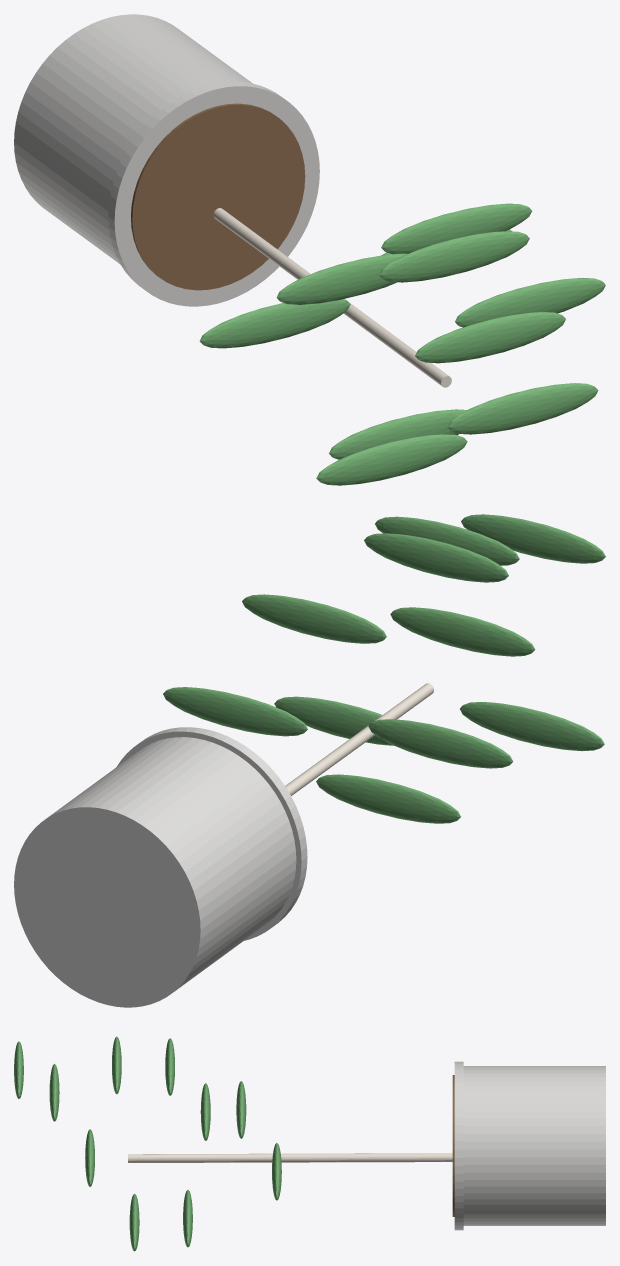
Rendered from 321 BITKI - PLANT.glb.
3 renders of one model, top to bottom at view 1: azimuth 30°, elevation 25°; view 2: azimuth 150°, elevation 25°; view 3: azimuth 270°, elevation 25°, orthographic. The views are drawn at different scales.
Visible parts, largest first — view 1: pot, soil, pot_rim, leaf_9, leaf_5, leaf_4, leaf_7, leaf_1, leaf_2, leaf_6, leaf_3, stem (+1 smaller); view 2: pot, leaf_3, leaf_9, leaf_8, leaf_2, leaf_1, leaf_0, leaf_5, leaf_7, pot_rim, leaf_4, leaf_6 (+1 smaller); view 3: pot, stem, pot_rim, leaf_6, leaf_1, leaf_4, leaf_2, leaf_9, leaf_7, leaf_5, leaf_8, leaf_0 (+2 smaller).
Boxes of the visible parts, box(x1,y1,x2,y2) form: pot: box(14, 14, 252, 263); soil: box(131, 103, 305, 290); pot_rim: box(108, 81, 319, 306); leaf_9: box(379, 231, 529, 282); leaf_5: box(316, 434, 467, 485); leaf_4: box(447, 383, 598, 434); leaf_7: box(415, 312, 565, 363); leaf_1: box(199, 299, 350, 348); leaf_2: box(381, 203, 531, 254); leaf_6: box(455, 277, 605, 327); leaf_3: box(276, 253, 407, 304); stem: box(213, 208, 451, 387); pot: box(14, 737, 296, 1007); leaf_3: box(390, 607, 535, 656); leaf_9: box(364, 533, 508, 582); leaf_8: box(316, 774, 460, 823); leaf_2: box(242, 594, 386, 643); leaf_1: box(368, 719, 513, 768); leaf_0: box(163, 687, 307, 736); leaf_5: box(460, 702, 604, 751); leaf_7: box(461, 514, 605, 563); pot_rim: box(117, 727, 307, 940); leaf_4: box(274, 696, 393, 745); leaf_6: box(375, 516, 519, 565); pot: box(463, 1066, 605, 1225); stem: box(128, 1153, 452, 1162); pot_rim: box(454, 1061, 463, 1230); leaf_6: box(49, 1064, 59, 1121); leaf_1: box(236, 1081, 246, 1138); leaf_4: box(129, 1193, 139, 1251); leaf_2: box(200, 1083, 210, 1140); leaf_9: box(112, 1036, 121, 1094); leaf_7: box(14, 1041, 23, 1098); leaf_5: box(85, 1129, 94, 1186); leaf_8: box(183, 1190, 192, 1247); leaf_0: box(272, 1143, 281, 1200).
Bounding box in the file's own units: 0.63 × 0.443 × 1.33.
